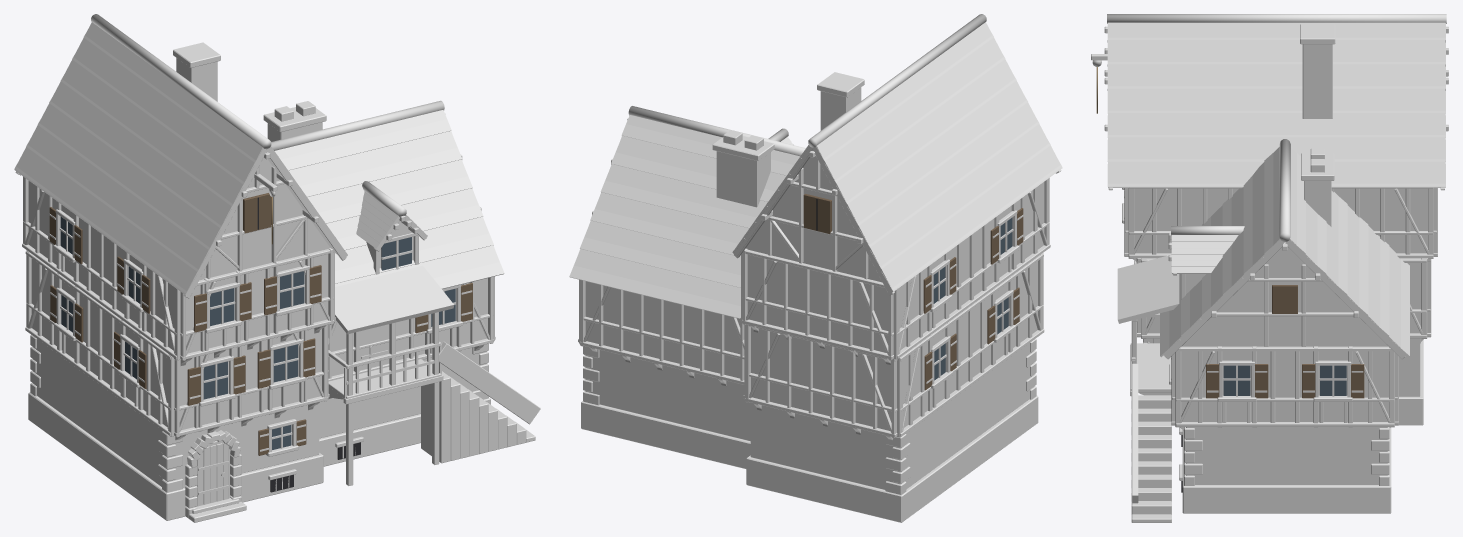
Rendered from ville_12_collees_escalier_pierre.fbx.
3 views of the same model, side by side, from view 1: azimuth 30°, elevation 25°; view 2: azimuth 150°, elevation 25°; view 3: azimuth 270°, elevation 25° (orthographic).
Visible parts, largest first — view 1: ville_12_collees_escalier_pierre_LOD0; view 2: ville_12_collees_escalier_pierre_LOD0; view 3: ville_12_collees_escalier_pierre_LOD0.
Part boxes in pixels (x1,y1,x2,y2): ville_12_collees_escalier_pierre_LOD0: (14,14,540,522); ville_12_collees_escalier_pierre_LOD0: (569,14,1062,522); ville_12_collees_escalier_pierre_LOD0: (1091,14,1448,522).
Size of what is drawn, in the model's own units: 11.64 by 11.44 by 9.92.
